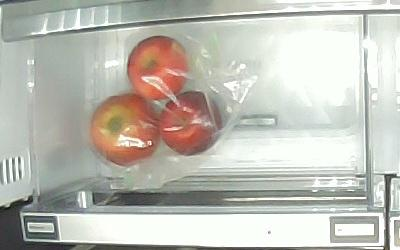apple_vinyl: (88, 92, 161, 165), (161, 91, 224, 156), (127, 36, 189, 100)
